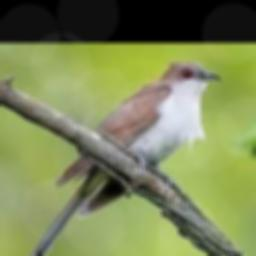Cuckoo: (15, 61, 220, 256)
